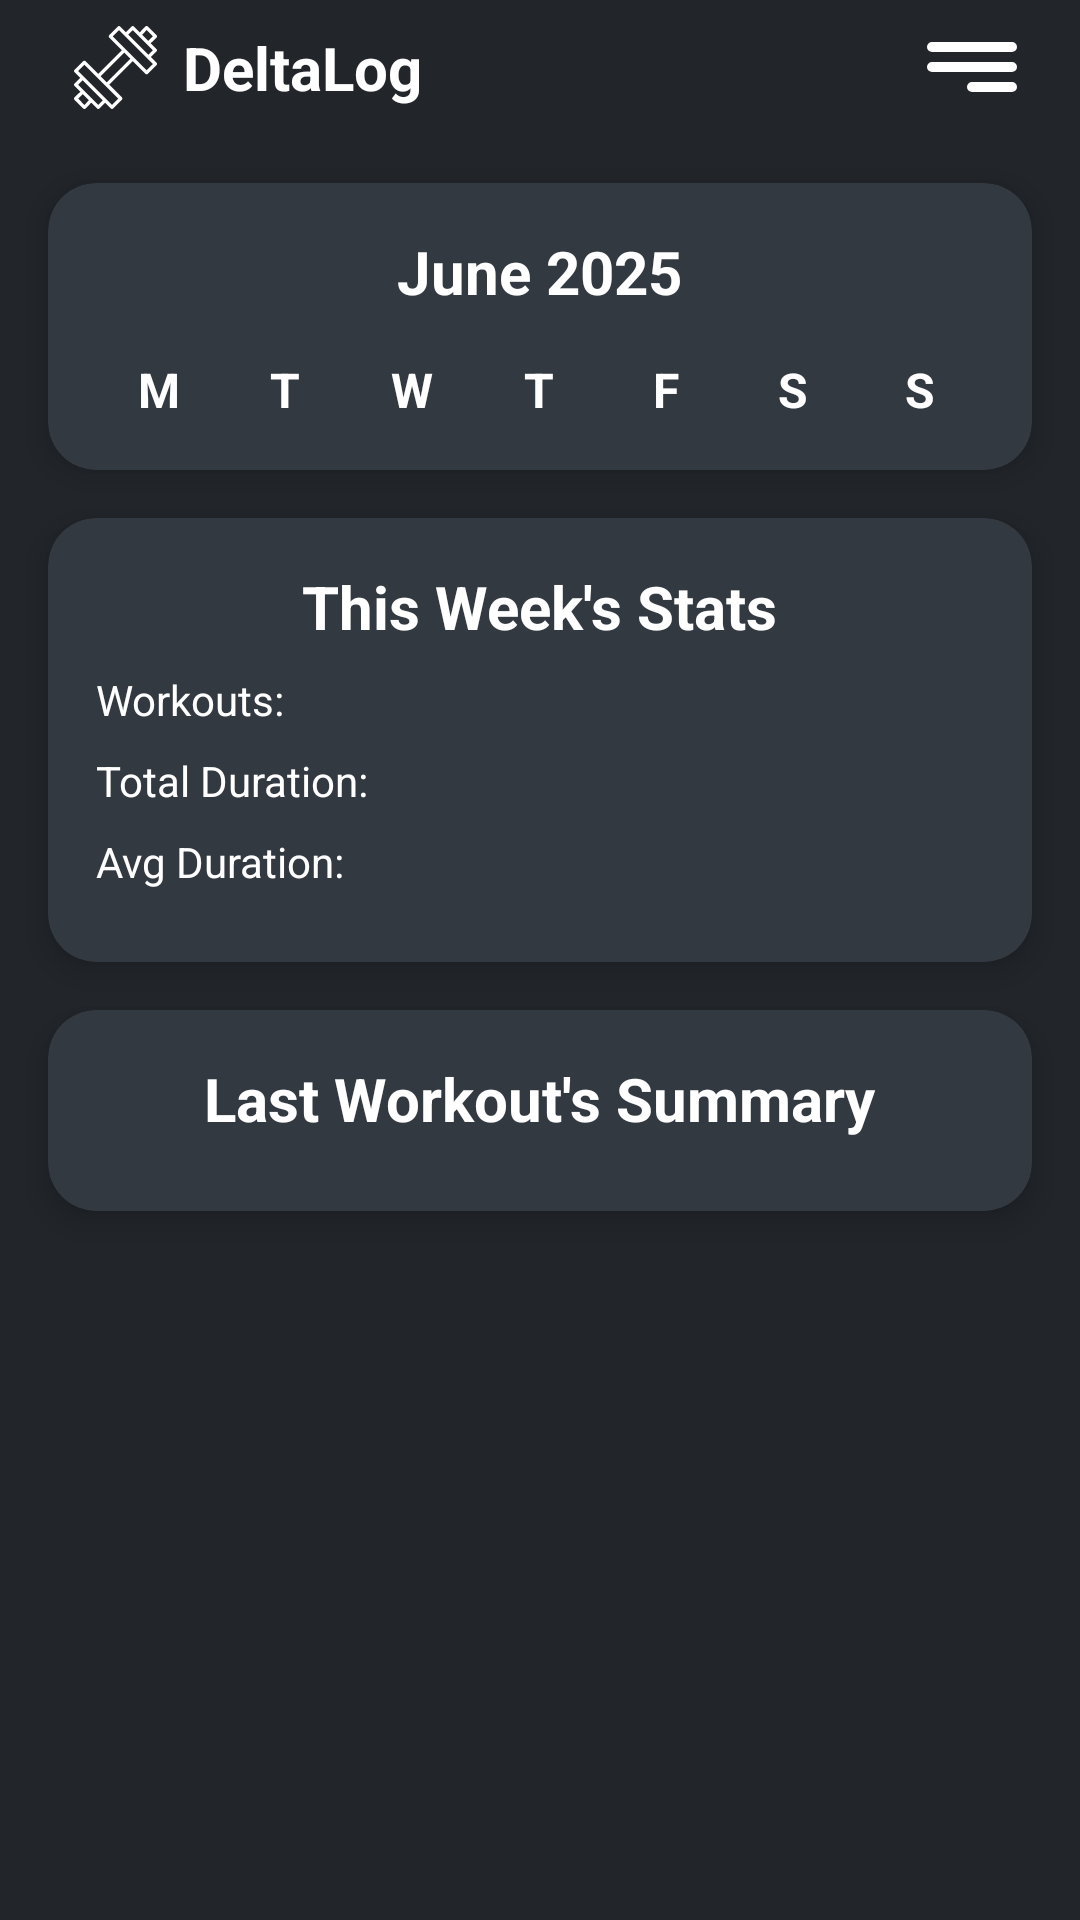

Screen size 1080 x 1920. Icon name, then its box in pixels as (left=x1, top=y1, right=x2, bottom=y2):
menu: (left=927, top=42, right=1017, bottom=92)
